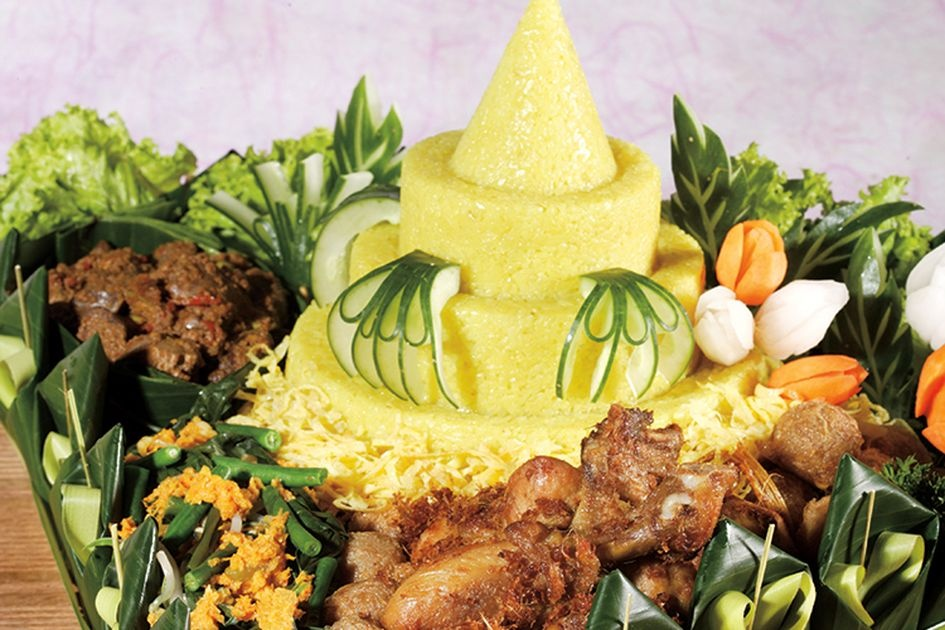tumpeng: (435, 9, 637, 189)
